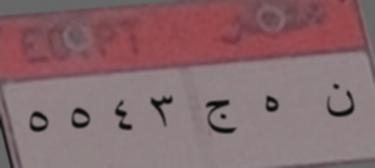3: (146, 87, 179, 133)
4: (110, 92, 138, 141)
5: (22, 100, 54, 142), (65, 100, 96, 140)
haa: (253, 84, 292, 132)
jeem: (197, 91, 239, 146)
noon: (314, 69, 360, 128)
